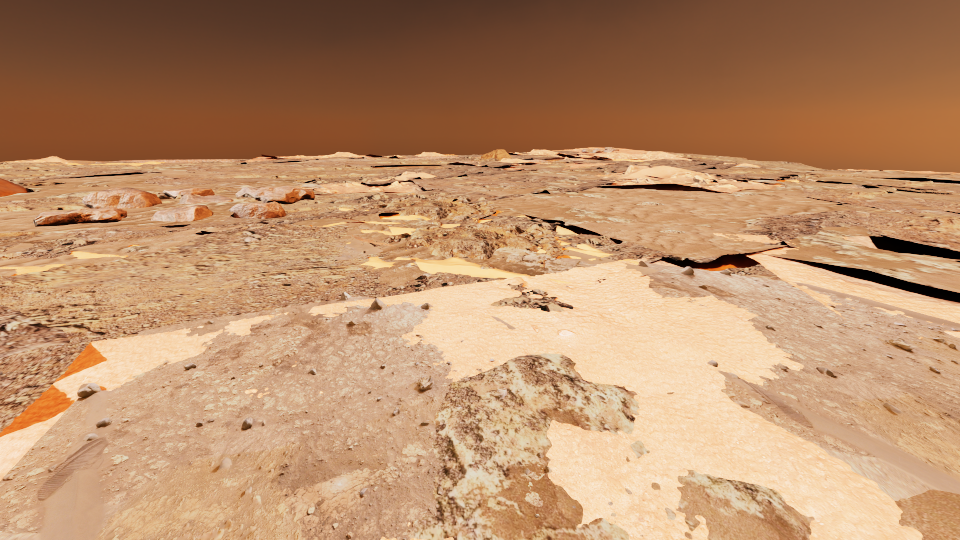bedrock: (221, 189, 959, 500), (0, 292, 452, 539), (207, 155, 524, 184), (176, 236, 382, 280), (0, 301, 106, 359), (738, 210, 879, 246), (548, 154, 742, 174), (130, 155, 454, 166), (364, 272, 499, 295), (0, 166, 161, 185), (0, 234, 99, 260), (491, 175, 617, 194), (490, 283, 572, 311), (884, 214, 959, 234), (716, 170, 801, 179), (818, 187, 887, 198), (0, 204, 88, 211), (0, 162, 61, 169), (523, 466, 551, 479), (510, 155, 560, 162), (492, 316, 516, 329), (445, 181, 496, 187), (879, 181, 934, 186), (905, 190, 950, 196), (525, 492, 542, 506), (688, 255, 721, 262), (506, 252, 528, 262), (790, 174, 843, 178), (157, 194, 182, 202), (0, 371, 11, 388), (0, 232, 42, 236), (228, 197, 261, 202), (757, 162, 792, 166), (494, 388, 506, 399), (941, 202, 959, 208), (530, 165, 571, 167), (553, 151, 580, 154), (480, 264, 493, 269), (436, 486, 443, 494), (708, 360, 717, 366), (78, 184, 97, 186), (536, 452, 543, 457)
rocks: (33, 187, 161, 226), (229, 186, 314, 218), (163, 188, 232, 203), (151, 205, 212, 221), (481, 149, 510, 159), (582, 147, 618, 152), (160, 224, 189, 227)
sand: (361, 239, 959, 539), (454, 179, 959, 322), (0, 328, 222, 480), (0, 166, 378, 201), (0, 225, 242, 275), (0, 200, 253, 240), (293, 212, 459, 243), (728, 166, 959, 185), (493, 166, 609, 179), (308, 299, 374, 317), (224, 315, 274, 335), (42, 160, 181, 165), (562, 244, 612, 257), (859, 193, 920, 203), (555, 147, 607, 156), (753, 178, 799, 185), (3, 243, 33, 253), (565, 162, 613, 168), (803, 186, 850, 192), (880, 186, 925, 192), (211, 163, 276, 167), (613, 148, 649, 155), (927, 190, 959, 197), (371, 165, 445, 168), (875, 307, 904, 314), (243, 157, 282, 161), (944, 330, 959, 337), (214, 193, 235, 196), (698, 183, 727, 185), (934, 183, 959, 185), (245, 389, 256, 393), (478, 219, 492, 222)
soil: (0, 224, 388, 432), (782, 177, 959, 251), (281, 172, 543, 208), (60, 209, 324, 244), (139, 161, 402, 172), (685, 154, 824, 169), (142, 174, 313, 186), (0, 162, 131, 173), (669, 181, 778, 193), (595, 179, 662, 189), (0, 197, 83, 205), (0, 235, 58, 246), (0, 178, 34, 196), (508, 163, 579, 171), (595, 165, 644, 176), (655, 175, 698, 186), (740, 173, 805, 180), (389, 156, 458, 162), (373, 250, 403, 258), (701, 169, 735, 176), (107, 159, 178, 162), (541, 153, 575, 159), (676, 156, 714, 161), (283, 156, 338, 159), (210, 187, 239, 192), (703, 174, 717, 178), (331, 178, 358, 180), (364, 156, 389, 158)
